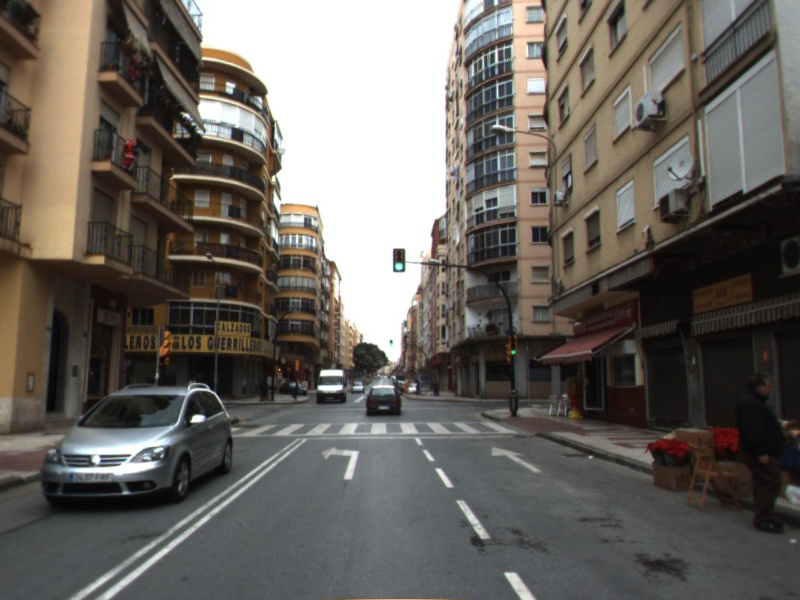LEFT: (319, 444, 361, 481)
STRAIGHT: (489, 445, 543, 474)
